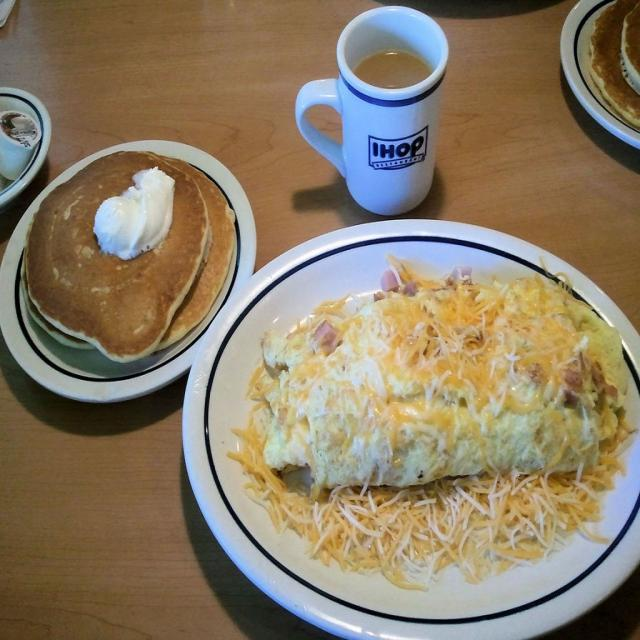Pancake: (23, 147, 239, 369), (588, 0, 639, 126)
